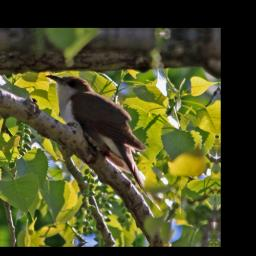Cuckoo: (41, 72, 153, 203)
